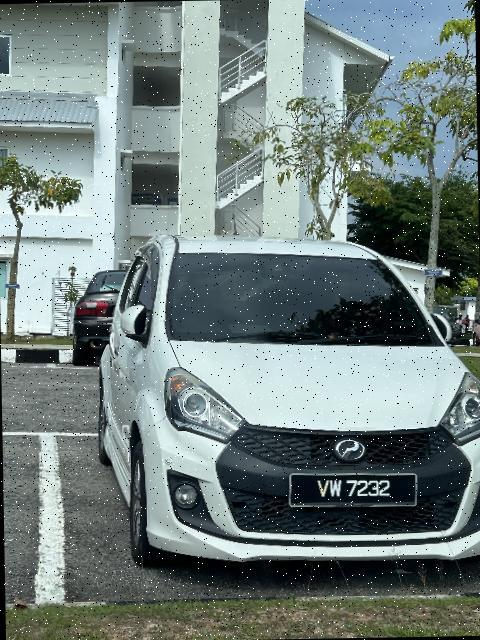License_Plate: (285, 467, 426, 515)
VW7232: (285, 467, 426, 515)
